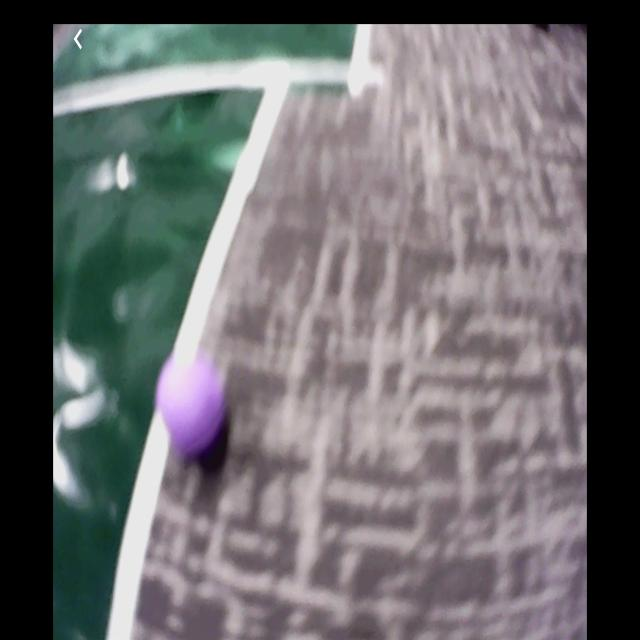ball: (161, 358, 228, 459)
